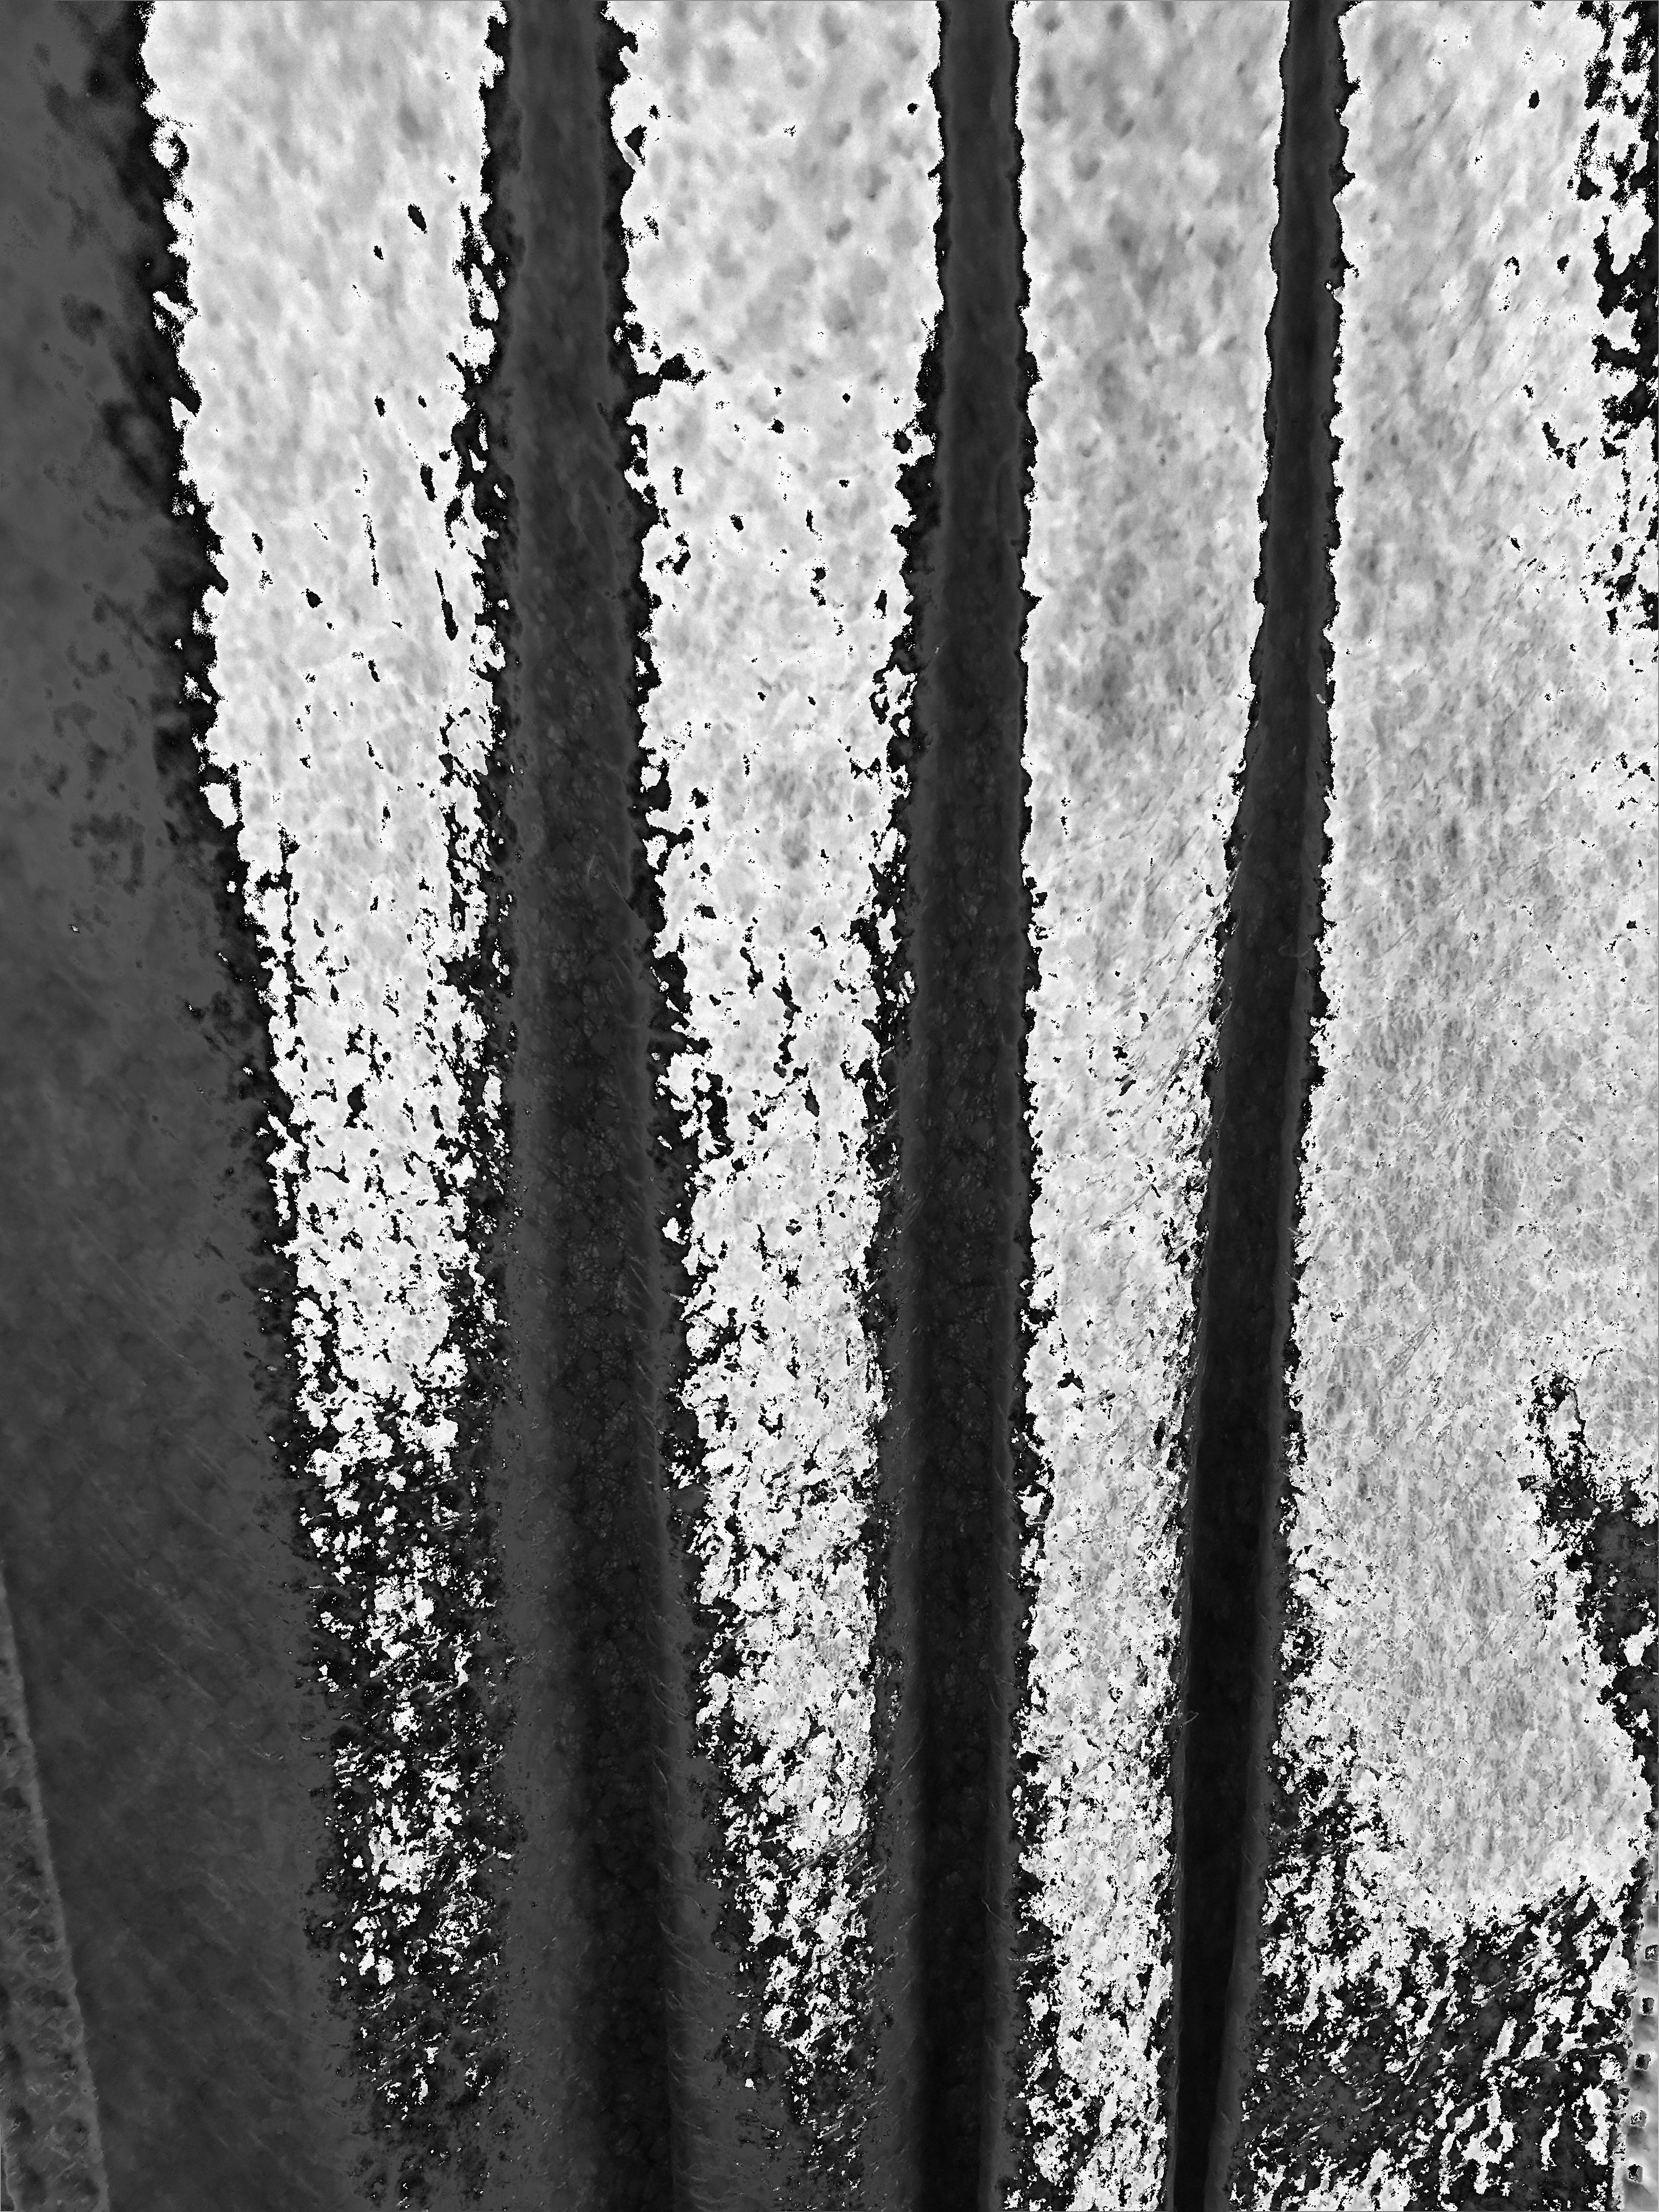Low GSM: (0, 3, 1610, 2205)
